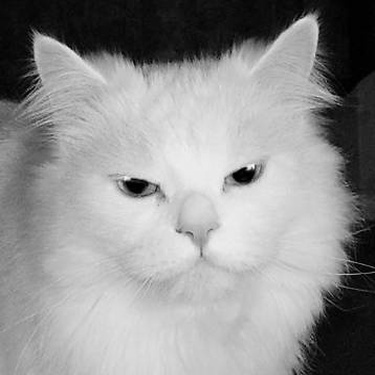cat: (9, 15, 358, 363)
